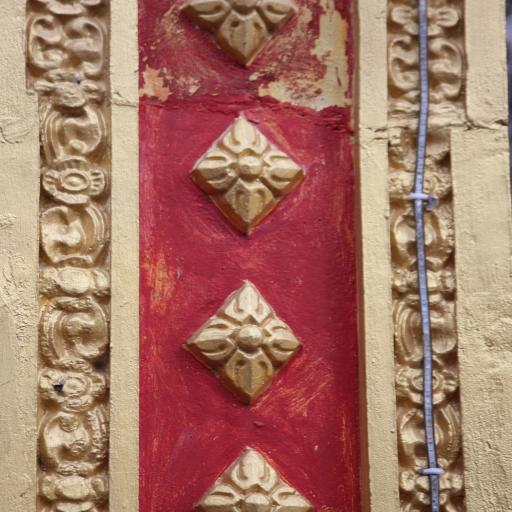hoa: (204, 277, 305, 395), (200, 120, 300, 220), (206, 439, 308, 511), (175, 0, 292, 61), (396, 462, 465, 512), (42, 255, 109, 306), (39, 158, 107, 203), (44, 460, 101, 512), (43, 357, 111, 398), (395, 265, 458, 308), (401, 358, 460, 403), (401, 86, 460, 129), (392, 155, 447, 201), (392, 3, 462, 34), (51, 68, 98, 110)
la: (29, 0, 101, 73), (394, 34, 468, 93), (392, 196, 454, 264), (47, 296, 108, 362), (41, 196, 106, 256), (403, 285, 460, 353), (51, 398, 103, 466), (407, 397, 457, 464), (47, 101, 105, 157)
